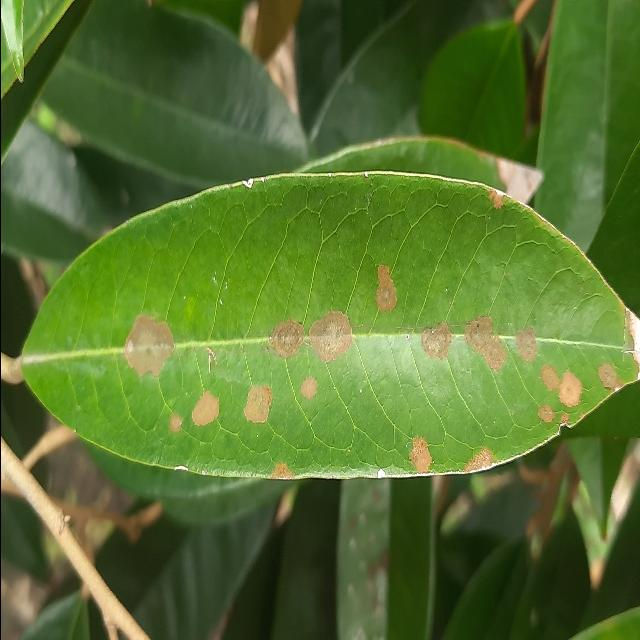Algal Leaf Spot: (9, 161, 640, 485)
